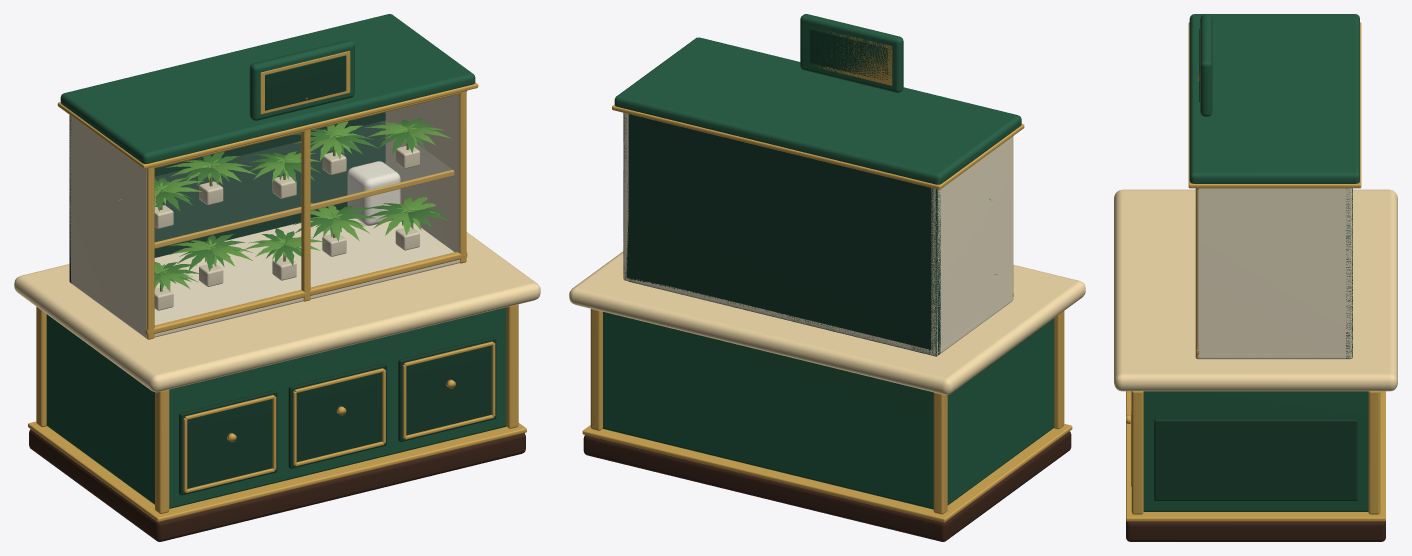
Rendered from seeds_bench_tier5.glb.
The picture shows the model from 3 angles, left to right: view 1: azimuth 30°, elevation 25°; view 2: azimuth 150°, elevation 25°; view 3: azimuth 270°, elevation 25°; orthographic projection.
Visible parts, largest first — view 1: Body, Top, CabTop, CabSide-1, CabFloor, CabBack, Plinth, Panel2, Panel0, Panel1, CabSide1, PlinthBrass (+14 smaller); view 2: CabBack, Body, CabTop, Top, CabSide-1, Plinth, PlinthBrass, Crest, CrestInset, CabTopBand, CabFloor, Corner-11 (+4 smaller); view 3: Top, CabTop, CabSide1, EndPanel, Body, Plinth, PlinthBrass, Corner1-1, Corner11, CabTopBand, Crest, CabFloor (+2 smaller).
Boxes of the visible parts, x1,y1,x2,y2 form: Body: [46, 307, 506, 508]; Top: [14, 232, 540, 392]; CabTop: [60, 14, 475, 163]; CabSide-1: [69, 115, 146, 338]; CabFloor: [119, 218, 459, 338]; CabBack: [69, 112, 385, 283]; Plinth: [29, 429, 525, 541]; Panel2: [398, 336, 496, 441]; Panel0: [179, 390, 277, 495]; Panel1: [288, 363, 386, 468]; CabSide1: [385, 94, 459, 252]; PlinthBrass: [28, 421, 526, 522]; CabBack: [623, 113, 940, 356]; Body: [603, 312, 1054, 509]; CabTop: [614, 37, 1021, 184]; Top: [569, 251, 1085, 394]; CabSide-1: [931, 136, 1012, 355]; Plinth: [583, 431, 1071, 541]; PlinthBrass: [582, 424, 1072, 522]; Crest: [800, 14, 903, 92]; CrestInset: [810, 29, 887, 79]; CabTopBand: [612, 104, 1024, 189]; CabFloor: [623, 275, 1009, 356]; Corner-11: [933, 392, 947, 514]; Top: [1114, 189, 1397, 391]; CabTop: [1189, 14, 1359, 183]; CabSide1: [1197, 188, 1352, 359]; EndPanel: [1154, 419, 1357, 500]; Body: [1143, 391, 1368, 511]; Plinth: [1126, 521, 1385, 541]; PlinthBrass: [1126, 391, 1385, 521]; Corner1-1: [1131, 391, 1143, 514]; Corner11: [1368, 391, 1380, 514]; CabTopBand: [1188, 22, 1361, 188]; Crest: [1200, 14, 1212, 116]; CabFloor: [1198, 353, 1352, 358].
Size of the model in its own units: 1.9 by 1.94 by 1.2.
